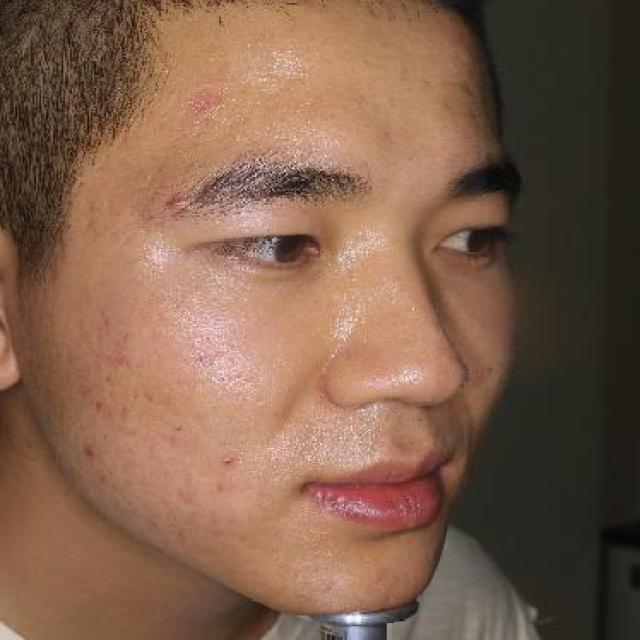blackheads: (82, 445, 98, 460), (221, 455, 236, 471)
